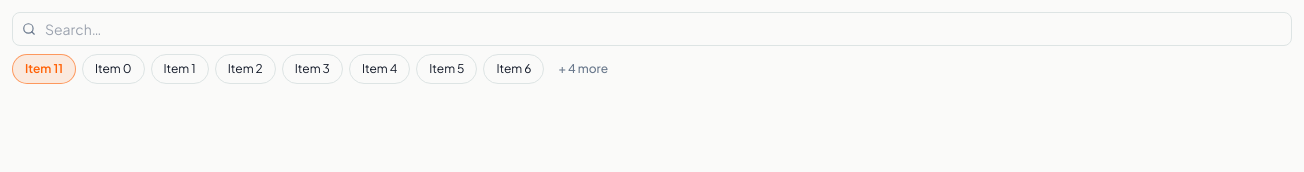
FilterChipGroup › shows a few chips with "+ N more", keeps chosen ones in view, and searches
Click the button "+ 4 more" at (583, 69), box x1=550 y1=54 x2=616 y2=84
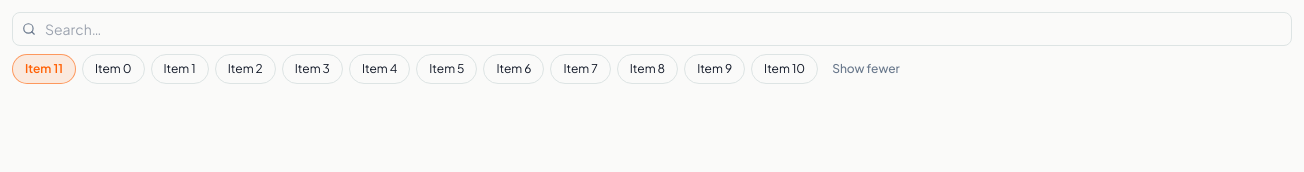
Type "item 3" into the field named "Search Things" at (652, 29), box x1=12 y1=12 x2=1292 y2=46
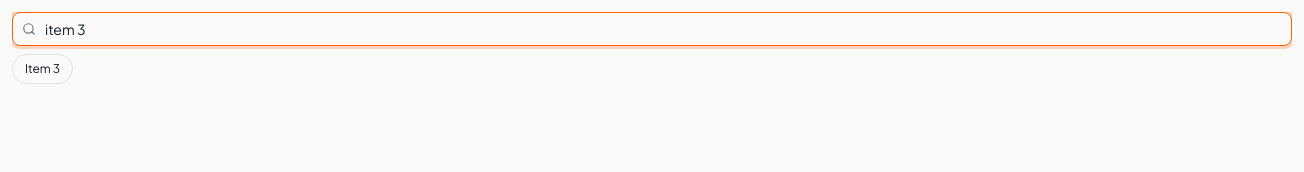
Now the checkboxes read "Item 3", in this order, box x1=12 y1=54 x2=73 y2=84
